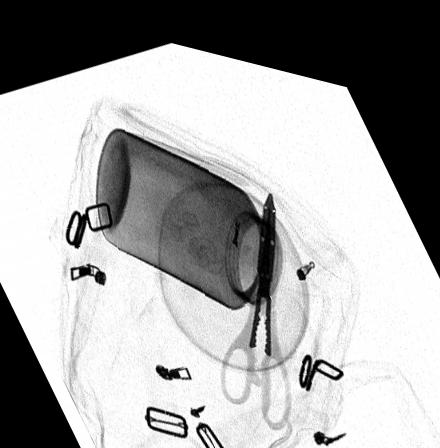Scissors: (222, 173, 291, 419)
